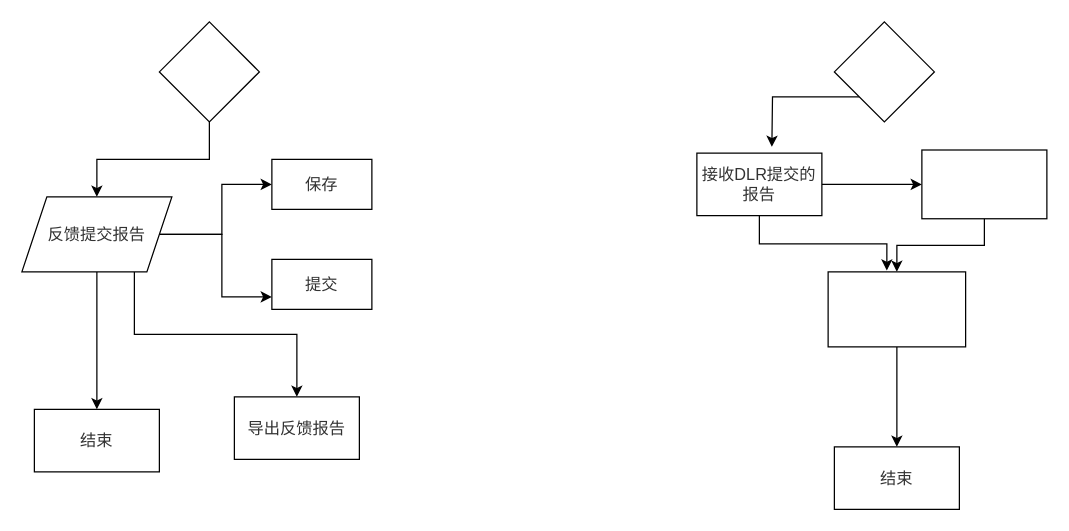
Some shapes in this 1069 by 531 pixel diagram are drawn without their labels. The shapes that lost their labels are listed below. From the top down, each one's centre as x and y in pixels, then its label:
At point (208, 71): "DRL".
At point (883, 71): "GTMC".
At point (984, 184): "填写反馈评价".
At point (896, 309): "导出反馈报告及评价信息".
